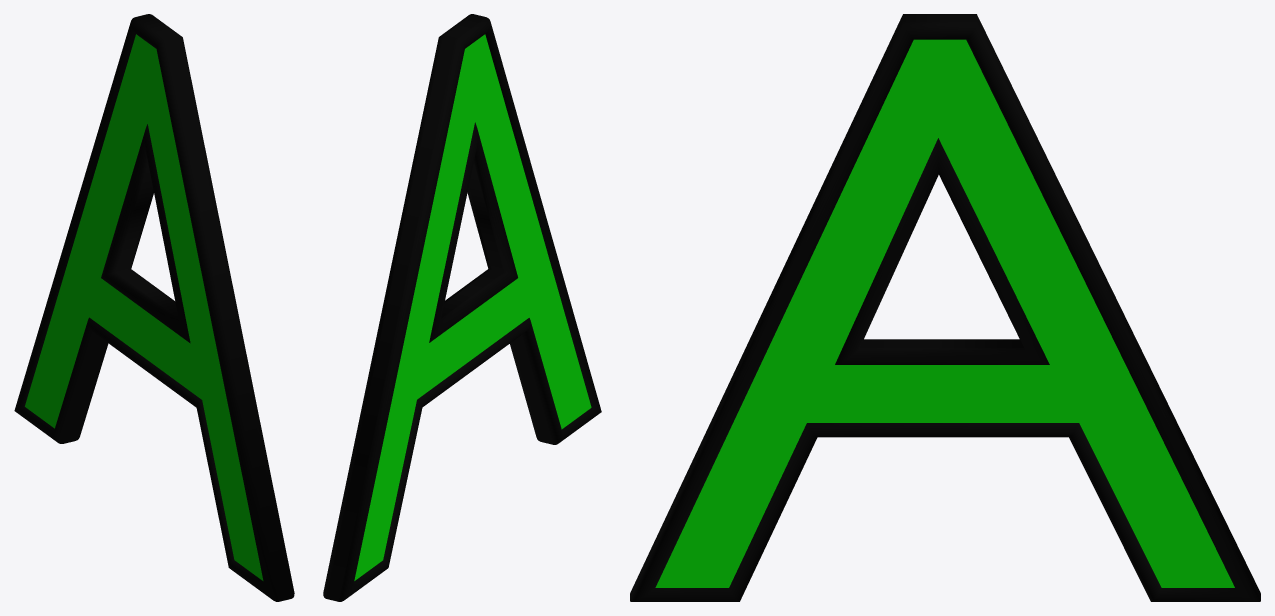
The model's file is aLetter.fbx.
The picture shows the model from 3 angles, left to right: view 1: azimuth 30°, elevation 25°; view 2: azimuth 150°, elevation 25°; view 3: azimuth 270°, elevation 25°; orthographic projection. The views are drawn at different scales.
Visible parts, largest first — view 1: A1; view 2: A1; view 3: A1.
Boxes of the visible parts, x1,y1,x2,y2 form: A1: [14, 14, 294, 601]; A1: [323, 14, 601, 601]; A1: [630, 14, 1260, 601].
Bounding box in the file's own units: 0.08 × 1.41 × 1.4.
